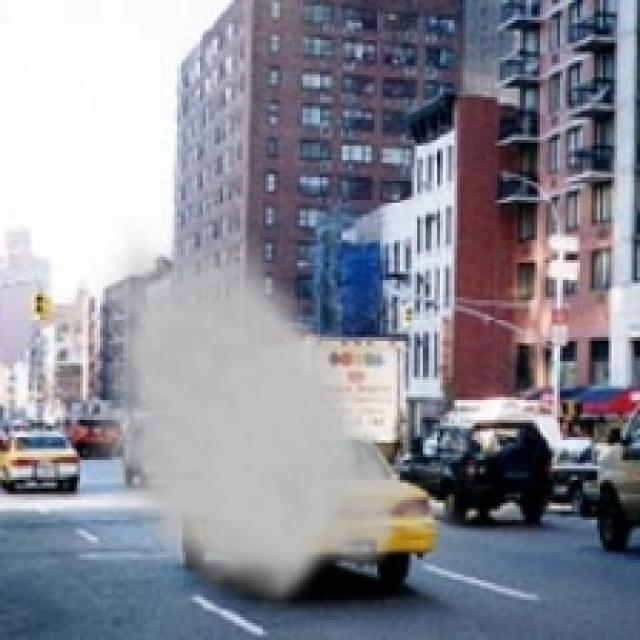smoke: (86, 217, 474, 617)
